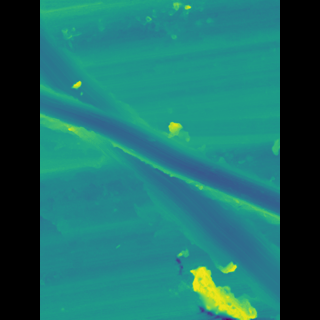Loch: (69, 18, 249, 314), (69, 86, 249, 214)
